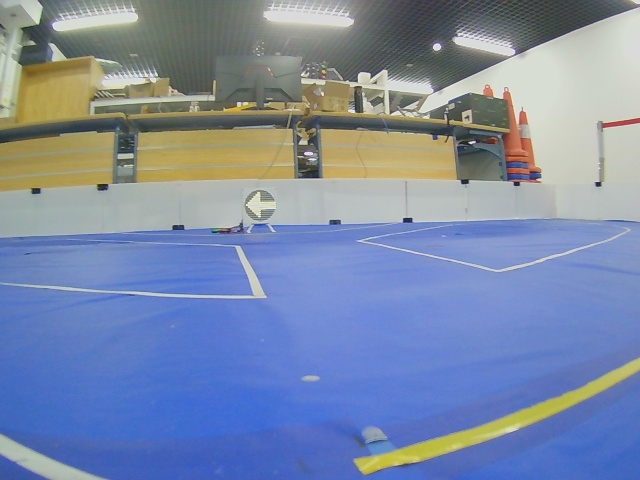left_yellow: (244, 189, 277, 223)
